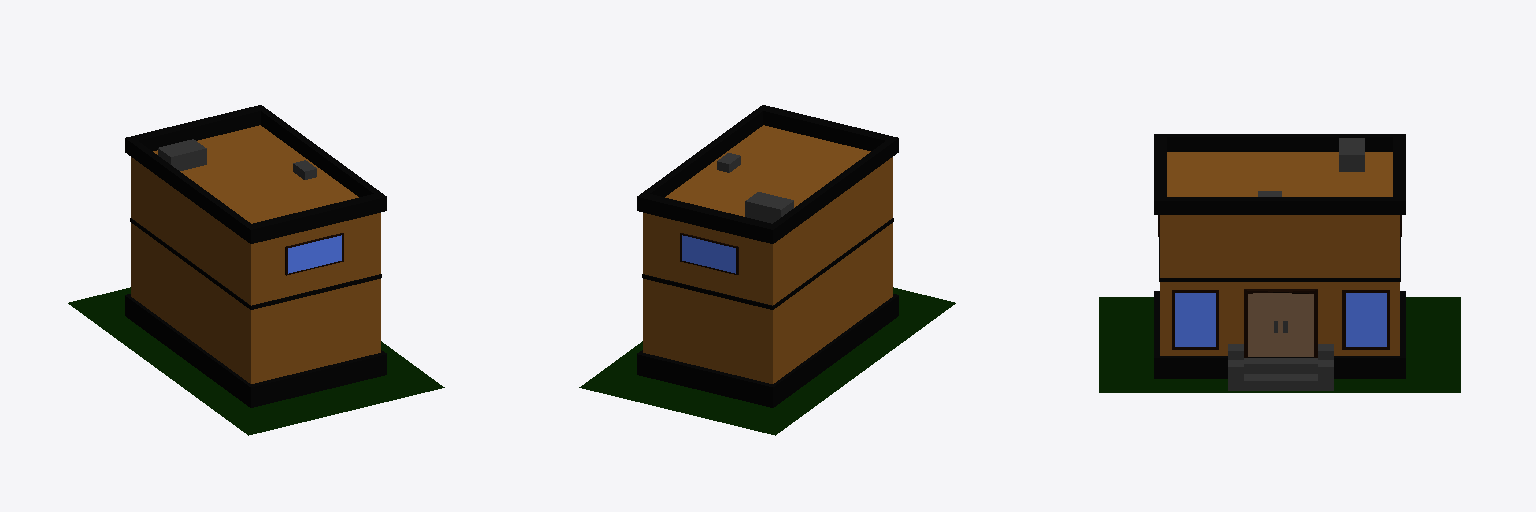
File: building_01.obj
The picture shows the model from 3 angles: view 1: azimuth 30°, elevation 25°; view 2: azimuth 150°, elevation 25°; view 3: azimuth 270°, elevation 25°; orthographic projection.
Parts seen in each view (by area): view 1: Plane; view 2: Plane; view 3: Plane.
Boxes of the visible parts, box(x1,y1,x2,y2) form: Plane: box(68, 105, 444, 435); Plane: box(579, 105, 955, 435); Plane: box(1099, 134, 1460, 392).
Bounding box in the file's own units: 14.37 × 12.7 × 22.99.